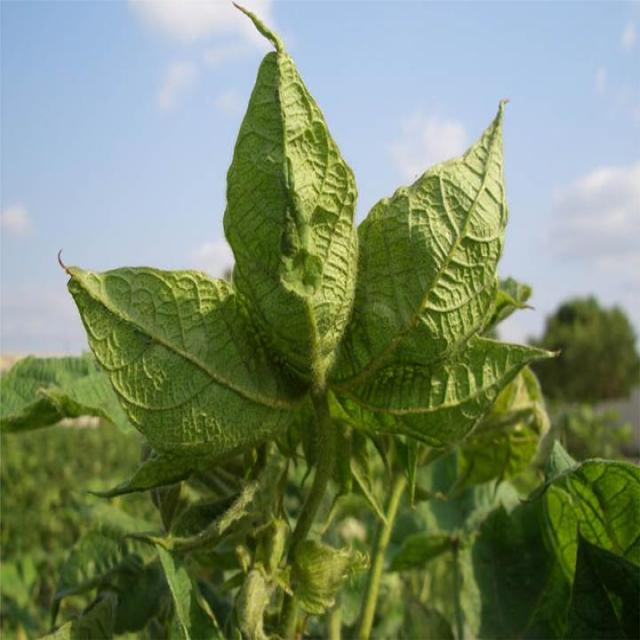Leaf Curl Virus: (177, 84, 495, 442)
